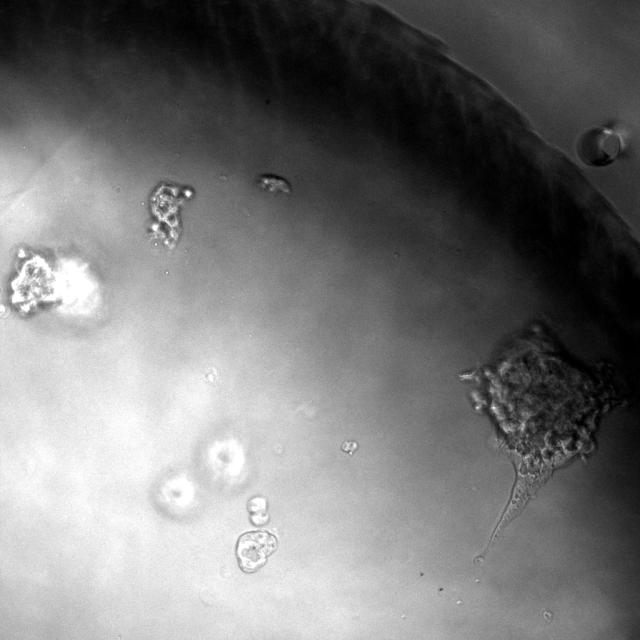organoid: (460, 323, 625, 553), (8, 247, 108, 331), (149, 182, 194, 249), (235, 529, 278, 572), (246, 495, 269, 525), (257, 174, 291, 193), (341, 440, 358, 455)
